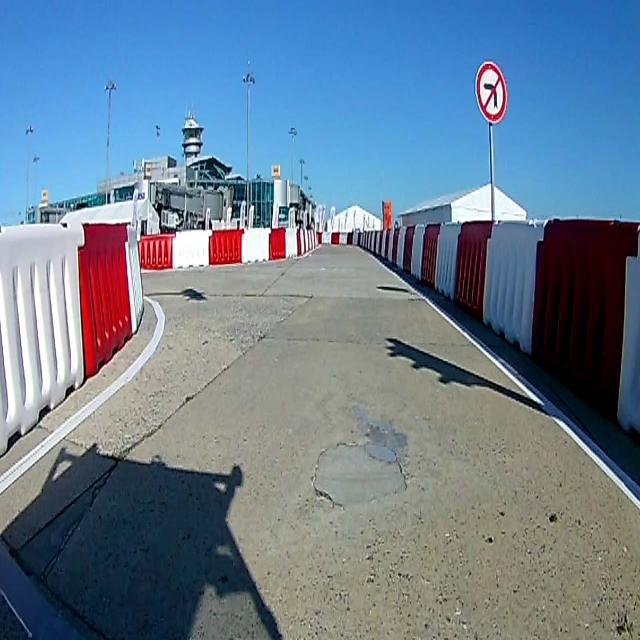soladonulmez: (475, 63, 507, 123)
